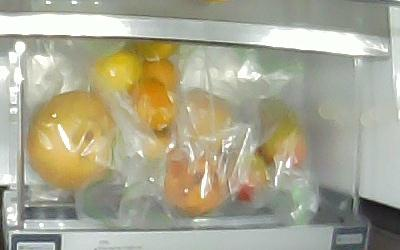peach_vinyl: (163, 148, 230, 215), (178, 88, 233, 154)
pear_vinyl: (27, 90, 116, 190)
tangerine_vinyl: (128, 79, 175, 131), (89, 50, 144, 91), (142, 58, 180, 88), (144, 130, 175, 159), (134, 42, 177, 61)
tomato_vinyl: (257, 122, 307, 167), (227, 151, 266, 200), (243, 98, 295, 132)
